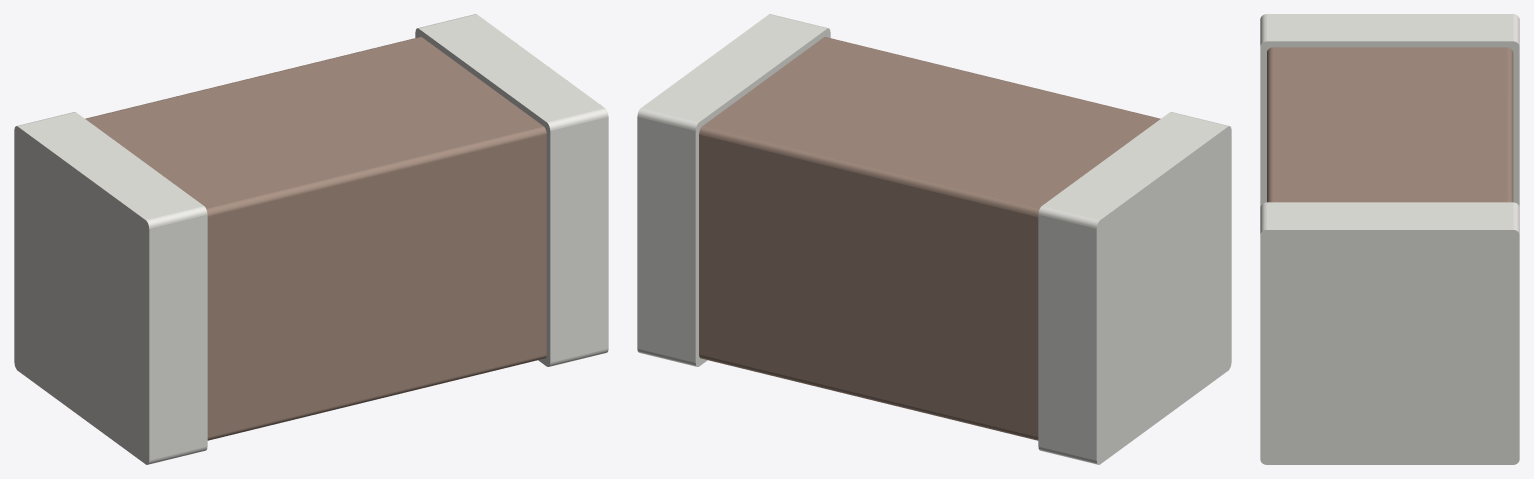
Rendered from C_2512_6332Metric.glb.
The picture shows the model from 3 angles, left to right: view 1: azimuth 30°, elevation 25°; view 2: azimuth 150°, elevation 25°; view 3: azimuth 270°, elevation 25°; orthographic projection. The views are drawn at different scales.
Visible parts, largest first — view 1: Shape_IndexedFaceSet.015, Shape_IndexedFaceSet.013, Shape_IndexedFaceSet, Shape_IndexedFaceSet.005, Shape_IndexedFaceSet.023, Shape_IndexedFaceSet.026, Shape_IndexedFaceSet.008, Shape_IndexedFaceSet.014, Shape_IndexedFaceSet.018, Shape_IndexedFaceSet.016, Shape_IndexedFaceSet.007, Shape_IndexedFaceSet.025; view 2: Shape_IndexedFaceSet.011, Shape_IndexedFaceSet.013, Shape_IndexedFaceSet, Shape_IndexedFaceSet.004, Shape_IndexedFaceSet.022, Shape_IndexedFaceSet.008, Shape_IndexedFaceSet.026, Shape_IndexedFaceSet.012, Shape_IndexedFaceSet.018, Shape_IndexedFaceSet.010; view 3: Shape_IndexedFaceSet.027, Shape_IndexedFaceSet.013, Shape_IndexedFaceSet.026, Shape_IndexedFaceSet.008, Shape_IndexedFaceSet.009, Shape_IndexedFaceSet.012, Shape_IndexedFaceSet.014.
Boxes of the visible parts, bbox=[...] form: Shape_IndexedFaceSet.015: bbox=[207, 134, 546, 436]; Shape_IndexedFaceSet.013: bbox=[86, 37, 542, 208]; Shape_IndexedFaceSet: bbox=[14, 126, 149, 464]; Shape_IndexedFaceSet.005: bbox=[149, 214, 207, 460]; Shape_IndexedFaceSet.023: bbox=[550, 117, 608, 362]; Shape_IndexedFaceSet.026: bbox=[419, 14, 604, 122]; Shape_IndexedFaceSet.008: bbox=[18, 112, 203, 219]; Shape_IndexedFaceSet.014: bbox=[206, 126, 546, 216]; Shape_IndexedFaceSet.018: bbox=[415, 28, 550, 366]; Shape_IndexedFaceSet.016: bbox=[207, 354, 546, 440]; Shape_IndexedFaceSet.007: bbox=[146, 206, 207, 228]; Shape_IndexedFaceSet.025: bbox=[547, 108, 608, 130]; Shape_IndexedFaceSet.011: bbox=[699, 134, 1038, 436]; Shape_IndexedFaceSet.013: bbox=[703, 37, 1159, 208]; Shape_IndexedFaceSet: bbox=[1096, 126, 1231, 464]; Shape_IndexedFaceSet.004: bbox=[1038, 214, 1096, 460]; Shape_IndexedFaceSet.022: bbox=[637, 117, 695, 362]; Shape_IndexedFaceSet.008: bbox=[1042, 112, 1227, 219]; Shape_IndexedFaceSet.026: bbox=[641, 14, 826, 122]; Shape_IndexedFaceSet.012: bbox=[699, 126, 1039, 217]; Shape_IndexedFaceSet.018: bbox=[695, 28, 830, 366]; Shape_IndexedFaceSet.010: bbox=[699, 354, 1038, 440]; Shape_IndexedFaceSet.027: bbox=[1260, 230, 1519, 464]; Shape_IndexedFaceSet.013: bbox=[1273, 47, 1506, 202]; Shape_IndexedFaceSet.026: bbox=[1267, 202, 1513, 229]; Shape_IndexedFaceSet.008: bbox=[1267, 14, 1513, 41]; Shape_IndexedFaceSet.009: bbox=[1260, 41, 1519, 206]; Shape_IndexedFaceSet.012: bbox=[1506, 47, 1513, 202]; Shape_IndexedFaceSet.014: bbox=[1267, 47, 1273, 202].
Bounding box in the file's own units: 2.48 × 1.26 × 1.26.
